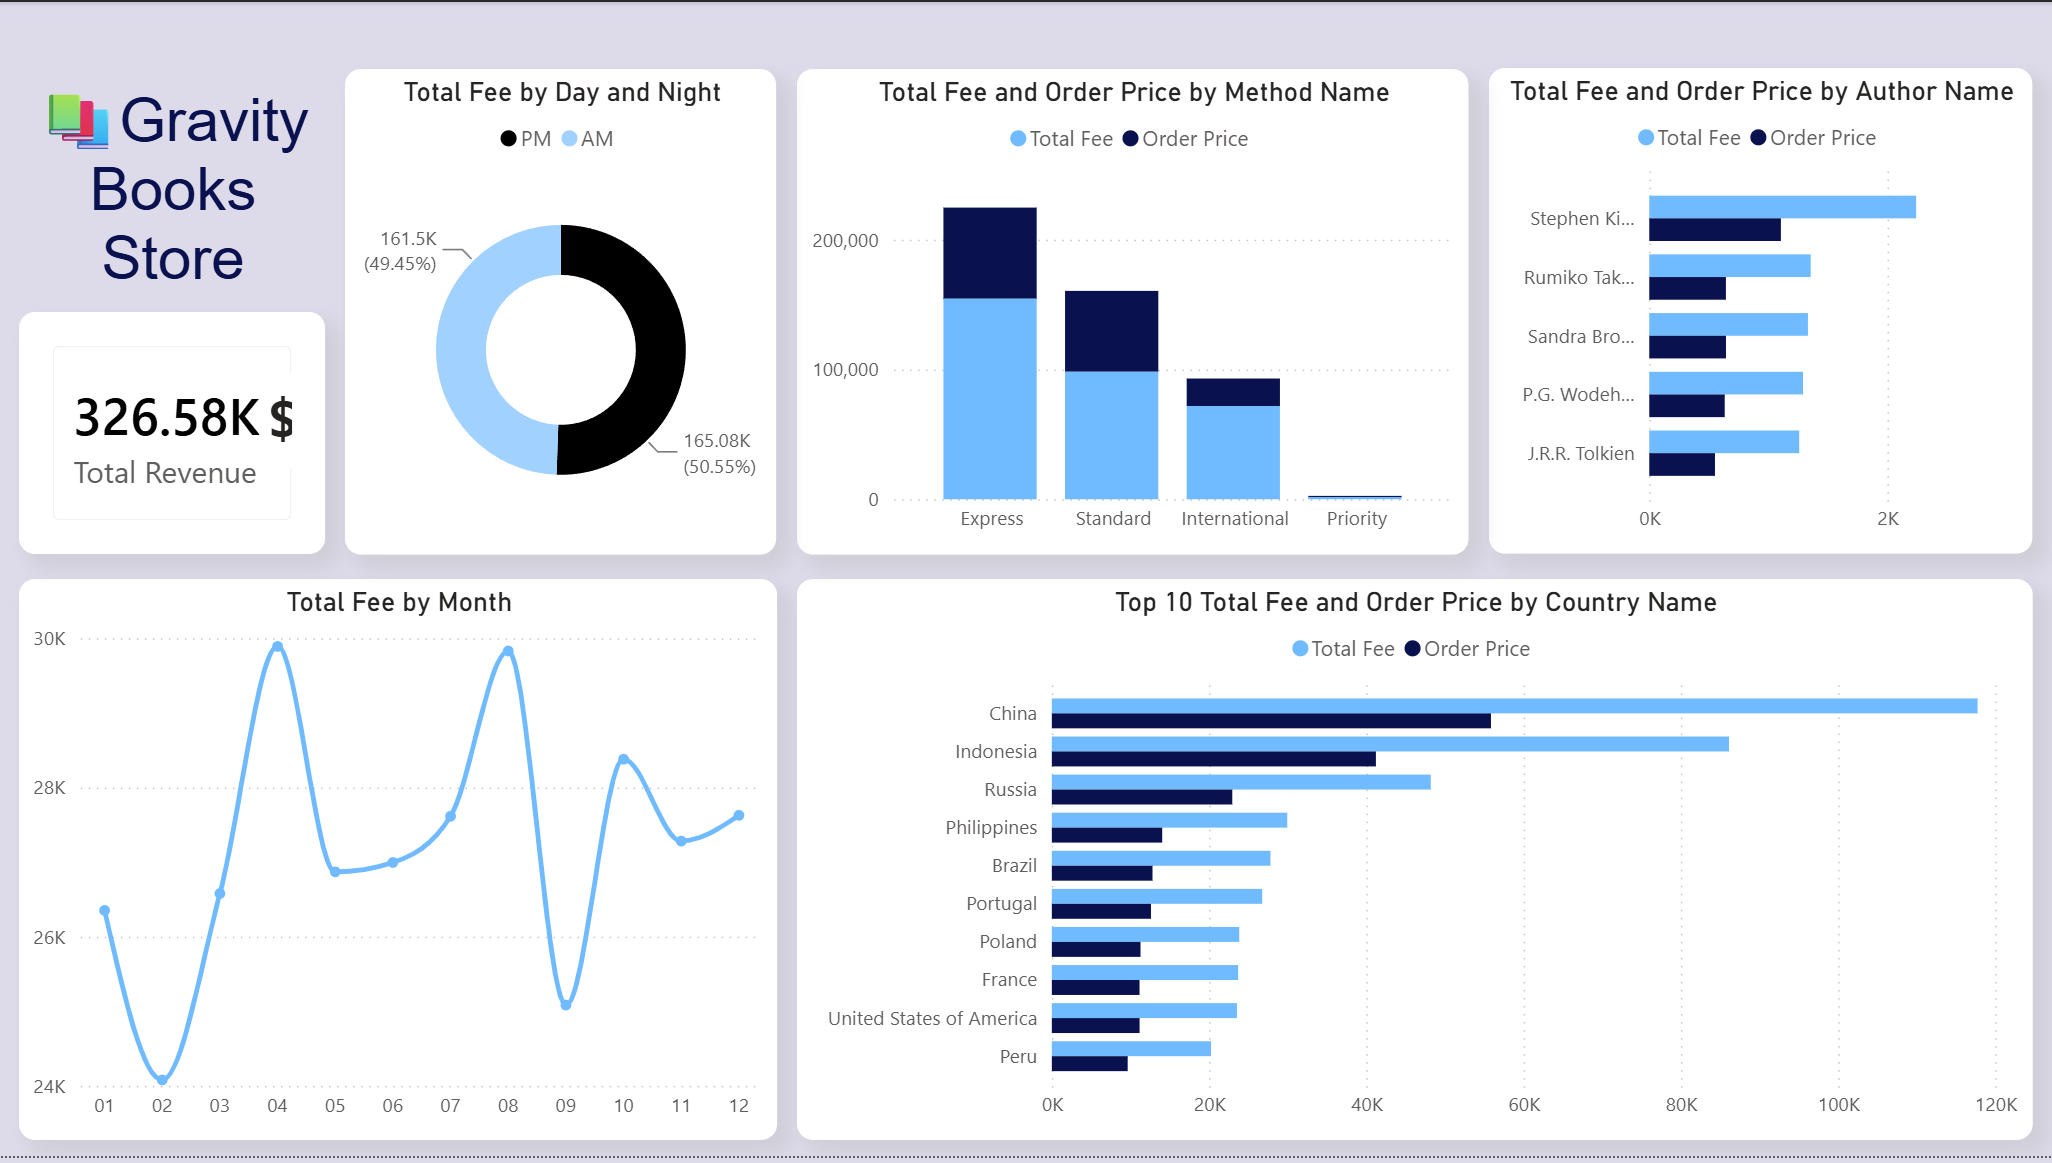

The dashboard page shown, as its layout file describes it:
{"tool":"powerbi","page":{"name":"Page 1","canvas":[1280,720],"ordinal":0},"visuals":[{"type":"lineChart","fields":{"Y":["Orders Fact.Total Fee"],"Category":["Date Dim.Month"]},"box":[12,360.3,472.6,350.2],"z":0},{"type":"clusteredBarChart","title":"Top 10 Total Fee and Order Price by Country Name","fields":{"Category":["Address Dim.Country Name"],"Y":["Orders Fact.Total Fee","Orders Fact.Order Price"]},"box":[497.3,360.3,770.7,350.2],"z":1000},{"type":"clusteredBarChart","fields":{"Category":["Author Dim.Author Name"],"Y":["Orders Fact.Total Fee","Orders Fact.Order Price"]},"box":[929.1,41.4,338.9,303.5],"z":2000},{"type":"columnChart","fields":{"Category":["Shipping Dim.Method Name"],"Y":["Orders Fact.Total Fee","Orders Fact.Order Price"]},"box":[497.3,42.1,419.1,302.8],"z":3000},{"type":"cardVisual","fields":{"Data":["Orders Fact.Total Fee"]},"box":[12,193.2,191.2,151.1],"z":3002},{"type":"donutChart","title":"Total Fee by Day and Night","fields":{"Category":["Time Dim.Am Pm"],"Y":["Orders Fact.Total Fee"]},"box":[215.2,42.1,269.4,302.8],"z":3003},{"type":"textbox","box":[162.4,231.3,24.7,60.2],"z":3004},{"type":"shape","box":[12,42.1,191.2,139.7],"z":3005},{"type":"textbox","box":[12,41.4,191.2,140.4],"z":3006}]}

Visuals, with their boxes in screenshot pixels (x1, y1, x2, y2), scaled from the page's 1280x720 canvas onto the 2052x1163 screenshot:
lineChart - Orders Fact.Total Fee x Date Dim.Month: [19, 582, 777, 1148]
"Top 10 Total Fee and Order Price by Country Name" clusteredBarChart: [797, 582, 2033, 1148]
clusteredBarChart - Author Dim.Author Name x Orders Fact.Total Fee: [1489, 67, 2033, 557]
columnChart - Shipping Dim.Method Name x Orders Fact.Total Fee: [797, 68, 1469, 557]
cardVisual - Orders Fact.Total Fee: [19, 312, 326, 556]
"Total Fee by Day and Night" donutChart: [345, 68, 777, 557]
textbox: [260, 374, 300, 471]
shape: [19, 68, 326, 294]
textbox: [19, 67, 326, 294]
